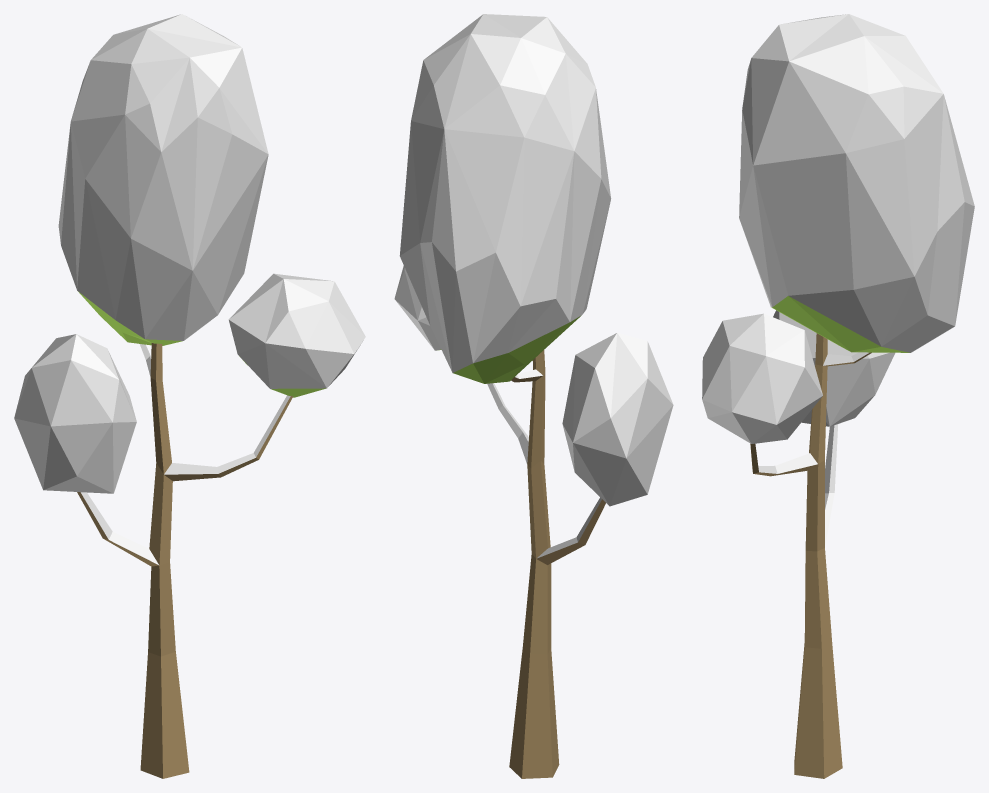
Rendered from Random_Tree_m_Snow_10.fbx.
The picture shows the model from 3 angles, left to right: view 1: azimuth 30°, elevation 25°; view 2: azimuth 150°, elevation 25°; view 3: azimuth 270°, elevation 25°; orthographic projection. The views are drawn at different scales.
Visible parts, largest first — view 1: Random_Tree_m_Snow_10; view 2: Random_Tree_m_Snow_10; view 3: Random_Tree_m_Snow_10.
Part boxes in pixels (box(x1,y1,x2,y2)): Random_Tree_m_Snow_10: box(14, 14, 365, 778); Random_Tree_m_Snow_10: box(394, 14, 673, 778); Random_Tree_m_Snow_10: box(702, 14, 974, 778).
Size of the model in its own units: 384 by 940 by 308.
